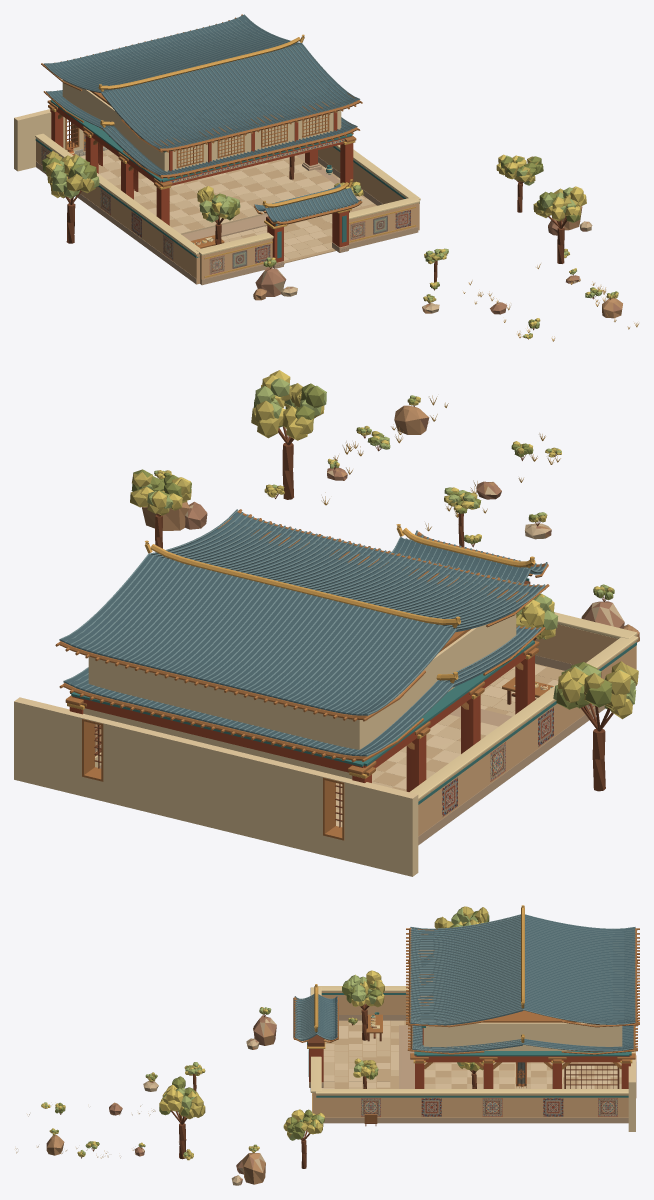
Rendered from courtyard.glb.
3 renders of one model, top to bottom at view 1: azimuth 30°, elevation 25°; view 2: azimuth 150°, elevation 25°; view 3: azimuth 270°, elevation 25°, orthographic. The views are drawn at different scales.
Parts seen in each view (by area): view 1: hall-v003-upper-roof, hall-v003-upper-wall-front, hall-v003-paving-c, hall-v003-paving-b, hall-v003-paving-a, entrance-roof, courtyard-paving, courtyard-side-wall, tree-court-outer-west-canopy, hall-v003-upper-wall-left, courtyard-square-rear-pier-0, hall-v003-lower-eave-left (+22 smaller); view 2: hall-v003-upper-roof, courtyard-square-rear-pier-1, hall-v003-upper-wall-rear, courtyard-square-rear-pier-0, courtyard-square-rear-pier-2, courtyard-side-wall, hall-v003-upper-wall-left, hall-v003-lower-eave-rear, tree-road-east-canopy, hall-v003-lower-eave-left, entrance-roof, tree-court-outer-west-canopy (+24 smaller); view 3: hall-v003-upper-roof, courtyard-side-wall-001, hall-v003-upper-wall-right, courtyard-paving, entrance-roof, courtyard-wall-plinth-001, courtyard-wall-coping-001, hall-v003-lower-eave-right, hall-v003-paving-c, hall-v003-paving-a, hall-v003-paving-b, tree-road-east-canopy (+15 smaller).
Part boxes in pixels (x1,y1,x2,y2): hall-v003-upper-roof: (41, 14, 362, 152); hall-v003-upper-wall-front: (166, 111, 339, 171); hall-v003-paving-c: (80, 155, 334, 233); hall-v003-paving-b: (98, 153, 329, 230); hall-v003-paving-a: (98, 149, 327, 227); entrance-roof: (254, 179, 362, 224); courtyard-paving: (211, 158, 374, 260); courtyard-side-wall: (36, 138, 199, 284); tree-court-outer-west-canopy: (42, 151, 99, 198); hall-v003-upper-wall-left: (62, 80, 167, 170); courtyard-square-rear-pier-0: (14, 109, 51, 171); hall-v003-lower-eave-left: (43, 90, 172, 178); hall-v003-upper-roof: (55, 509, 549, 721); courtyard-square-rear-pier-1: (102, 719, 328, 855); hall-v003-upper-wall-rear: (91, 657, 356, 749); courtyard-square-rear-pier-0: (342, 778, 418, 876); courtyard-square-rear-pier-2: (14, 697, 87, 796); courtyard-side-wall: (418, 641, 636, 836); hall-v003-upper-wall-left: (354, 612, 516, 749); hall-v003-lower-eave-rear: (79, 685, 356, 760); tree-road-east-canopy: (251, 370, 326, 440); hall-v003-lower-eave-left: (347, 626, 545, 762); entrance-roof: (392, 524, 548, 583); tree-court-outer-west-canopy: (553, 661, 638, 719); hall-v003-upper-roof: (406, 905, 639, 1027); courtyard-side-wall-001: (316, 1094, 628, 1117); hall-v003-upper-wall-right: (423, 1022, 622, 1050); courtyard-paving: (321, 1020, 408, 1088); entrance-roof: (293, 984, 338, 1042); courtyard-wall-plinth-001: (323, 1117, 628, 1123); courtyard-wall-coping-001: (315, 1089, 628, 1094); hall-v003-lower-eave-right: (407, 1034, 637, 1054); hall-v003-paving-c: (424, 1062, 621, 1088); hall-v003-paving-a: (424, 1062, 621, 1088); hall-v003-paving-b: (424, 1062, 621, 1088); tree-road-east-canopy: (159, 1076, 205, 1119).
Bounding box in the file's own units: 39.52 × 10.63 × 51.48.
35 materials, 9 textured.
